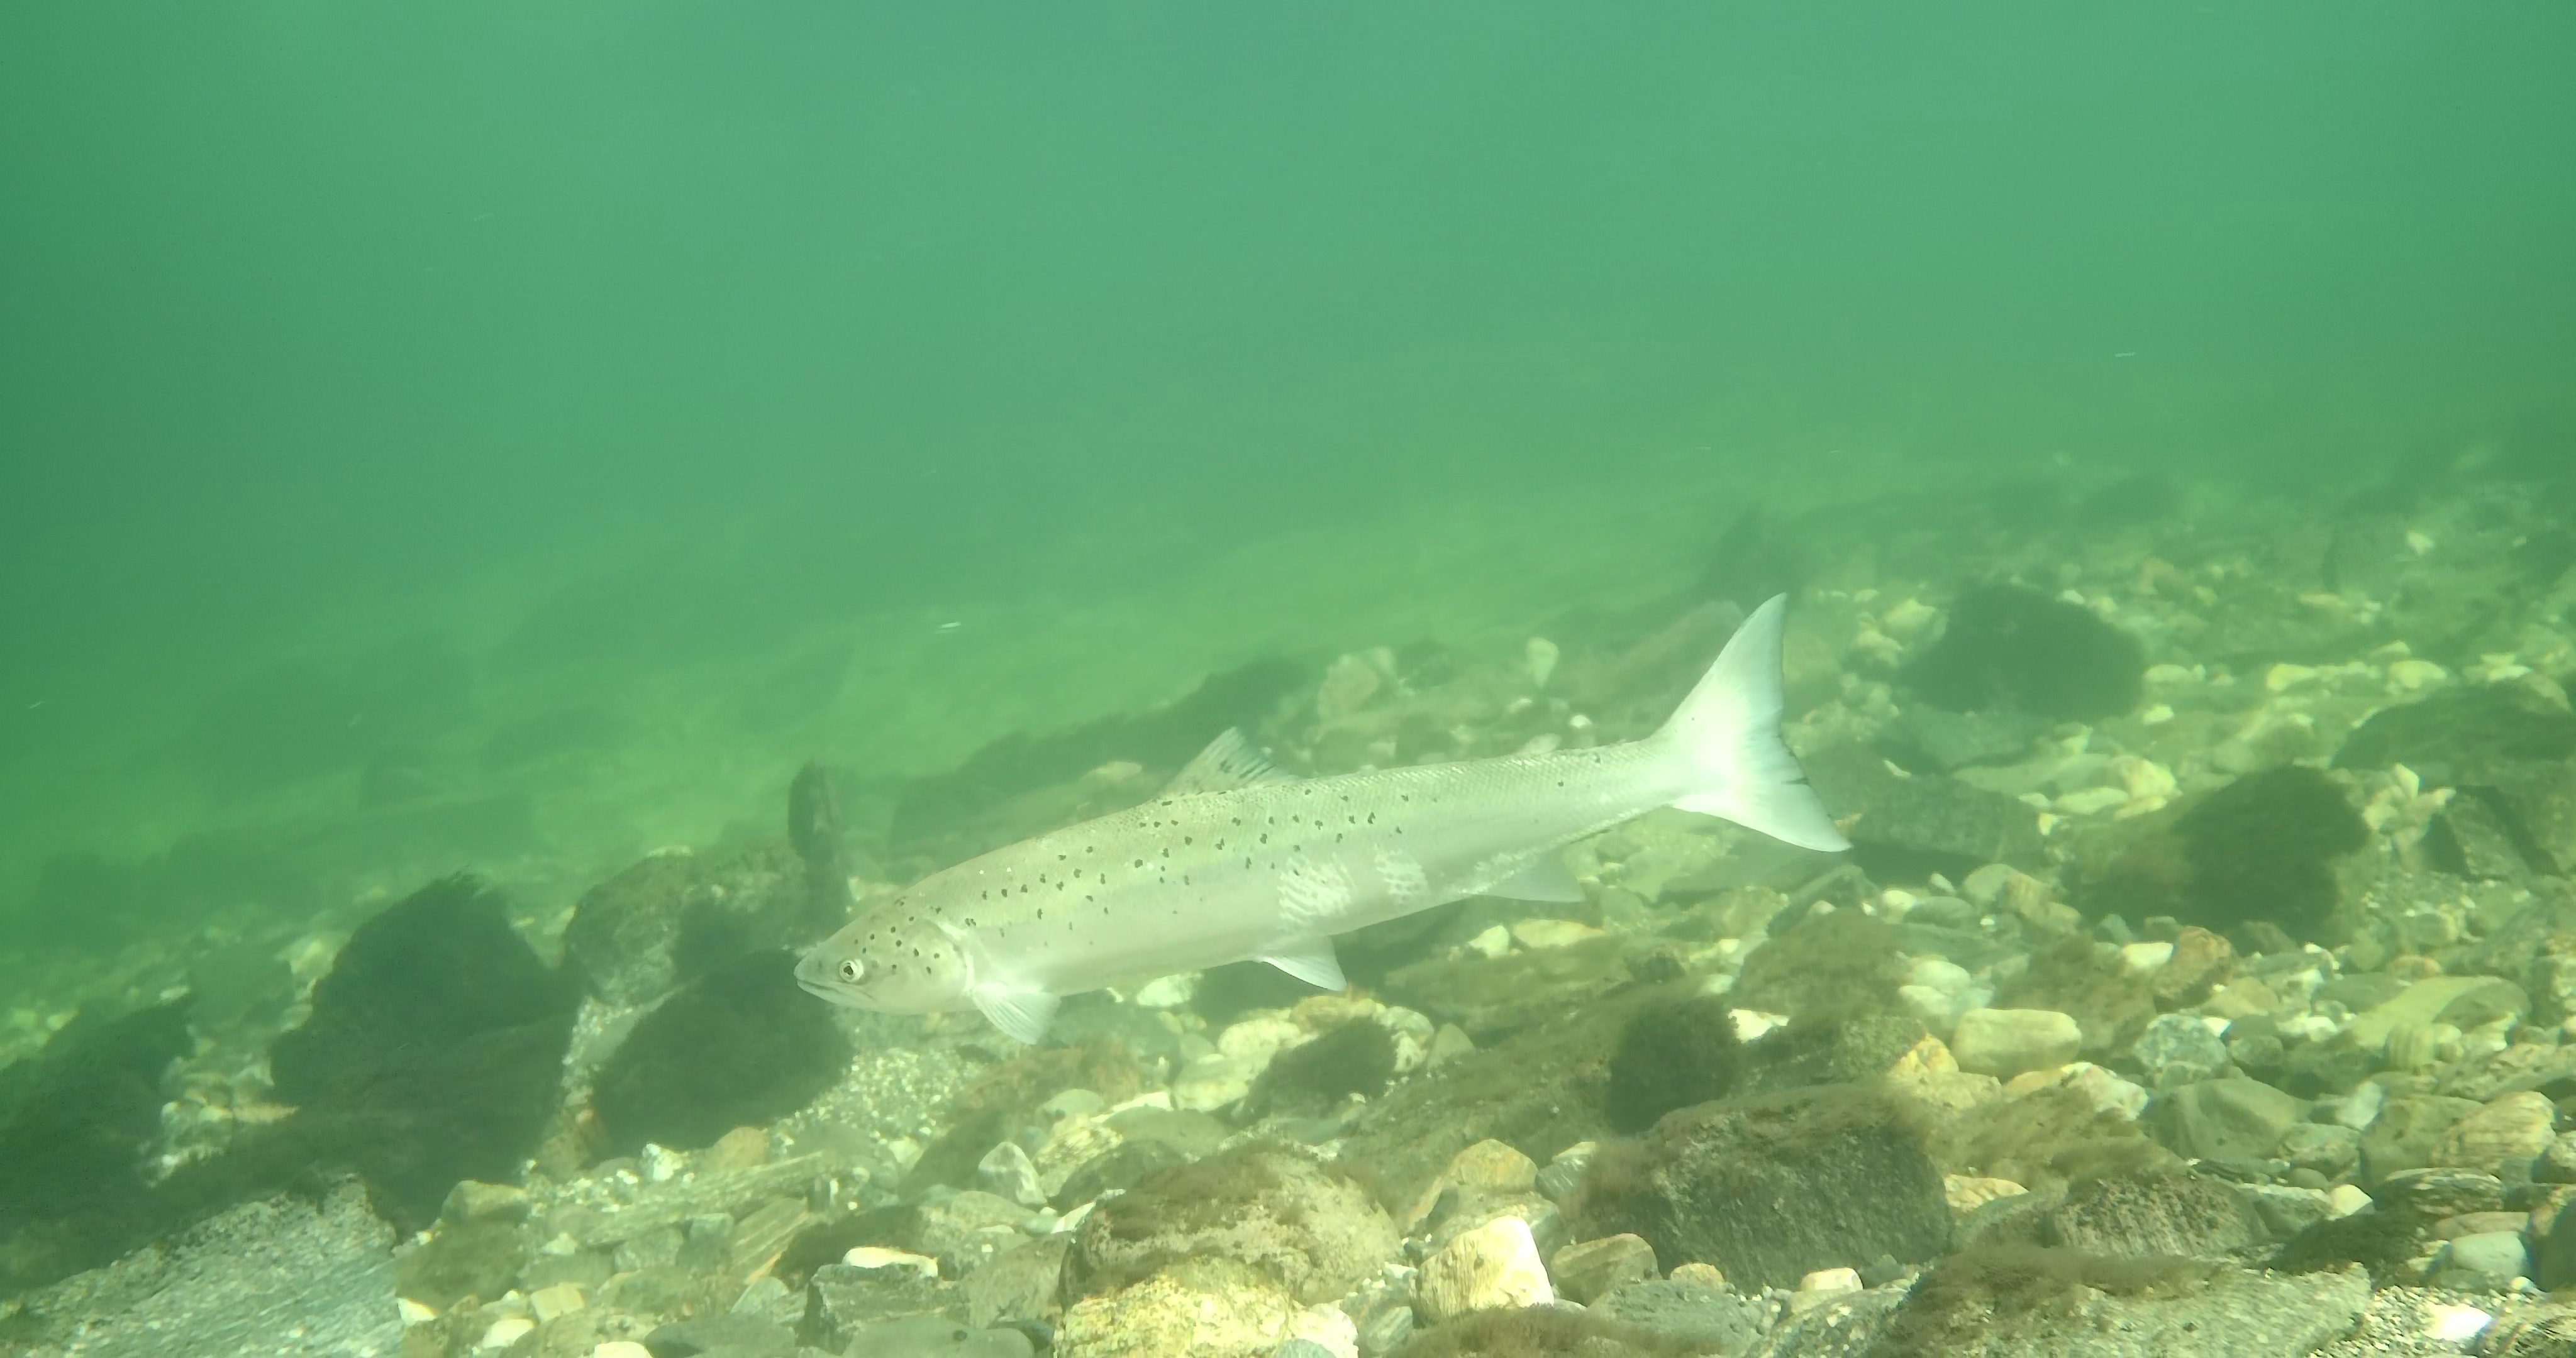salmon: (791, 588, 1855, 1048)
